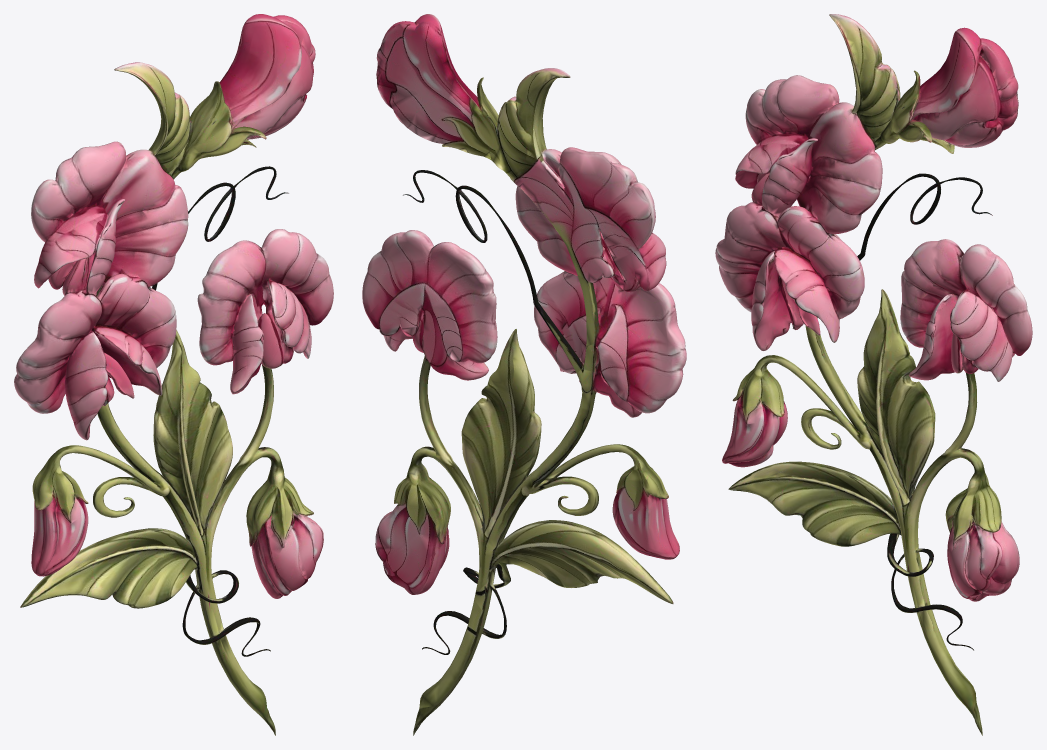
The model's file is sweet_pea.glb.
3 renders of one model, left to right at view 1: azimuth 30°, elevation 25°; view 2: azimuth 150°, elevation 25°; view 3: azimuth 330°, elevation 25°, orthographic. The views are drawn at different scales.
Bounding box in the file's own units: 0.8868 × 1.92 × 0.1545.
1 material, 1 textured.
